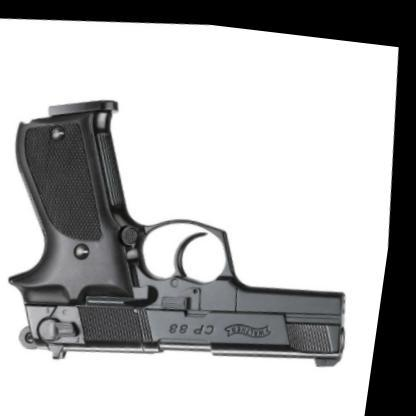pistol: (0, 66, 383, 393)
